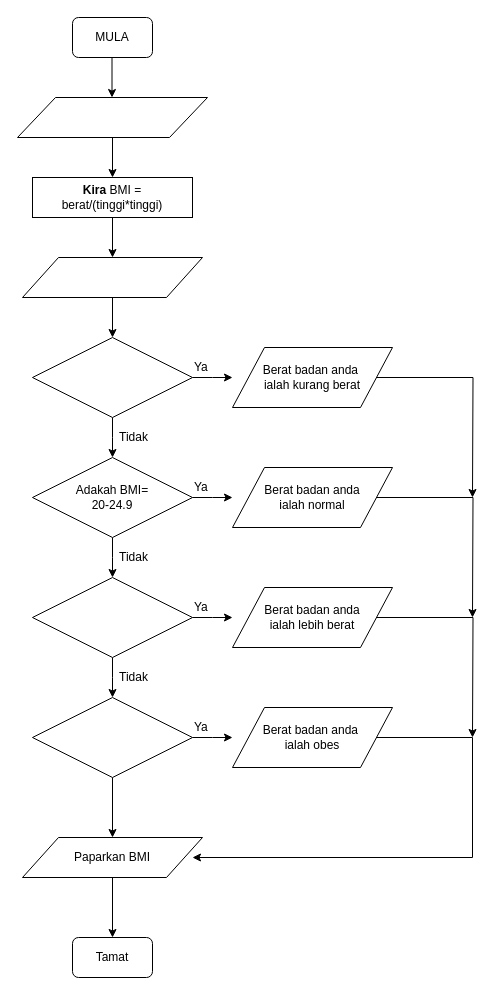
The diagram is 499 pixels wide and 995 high, and some of its shapes have lost their labels. The box of each missing label's shape, as (x1, y1, x2, y2) in pixels:
Adakah BMI = <20: (32, 336, 192, 418)
Adakah BMI= 25-29.9: (32, 576, 192, 658)
Adakah BMI= ≥ 30: (32, 696, 192, 778)
Cetak BMI: (22, 256, 202, 298)
Masukkan berat dan tinggi: (16, 96, 208, 138)
